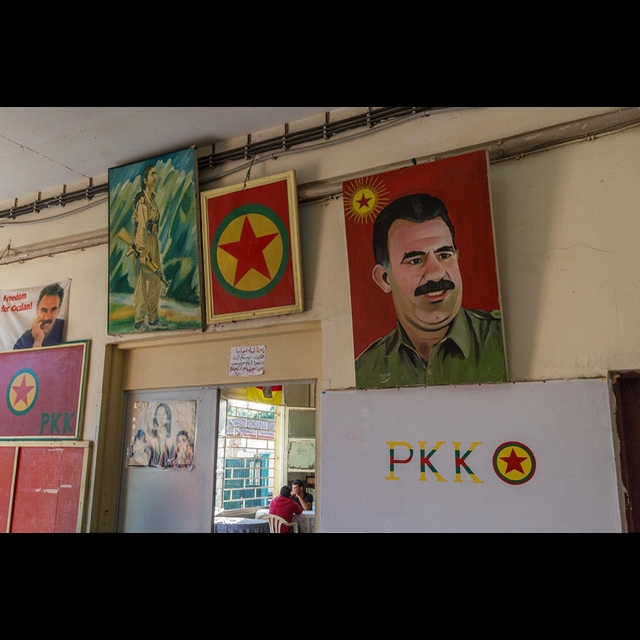APO: (36, 284, 65, 335)
PKK: (206, 198, 297, 301), (4, 366, 40, 419)
